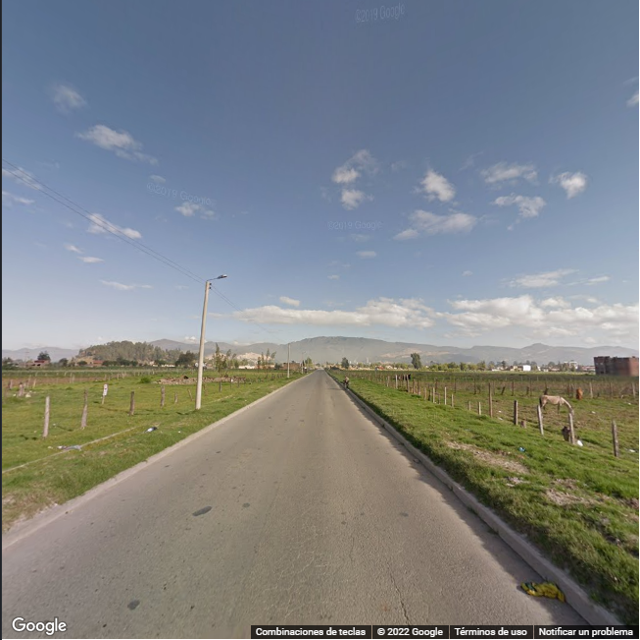D00: (227, 482, 287, 625), (390, 570, 421, 627), (349, 530, 356, 574)
